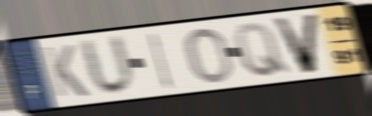I: (147, 30, 175, 91)
K: (40, 43, 91, 100)
O: (185, 26, 236, 86)
Q: (232, 20, 292, 79)
U: (77, 32, 138, 98)
V: (270, 11, 322, 76)
